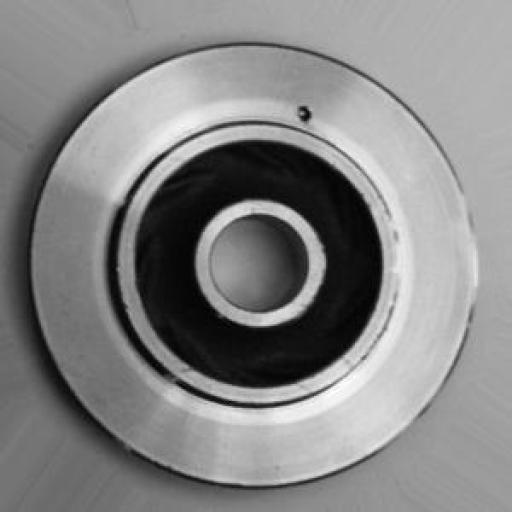defect: (273, 76, 332, 150)
